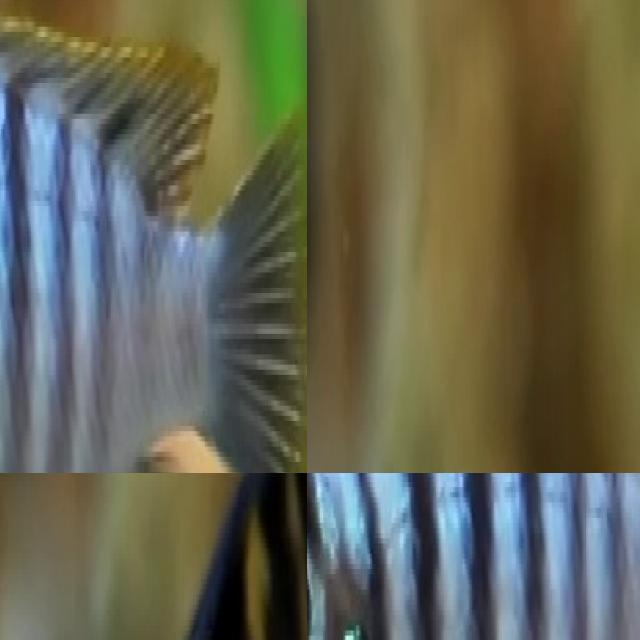fish: (0, 1, 307, 473), (307, 473, 640, 640)
